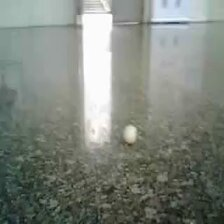w: (122, 123, 140, 145)
